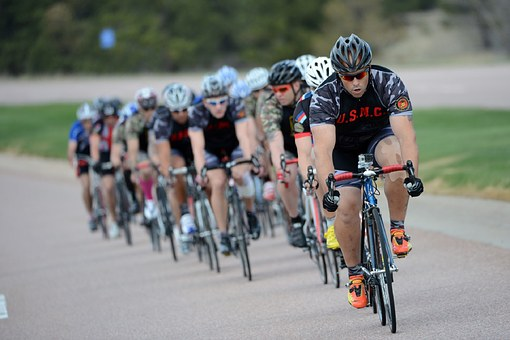bikerider: (306, 28, 427, 334)
